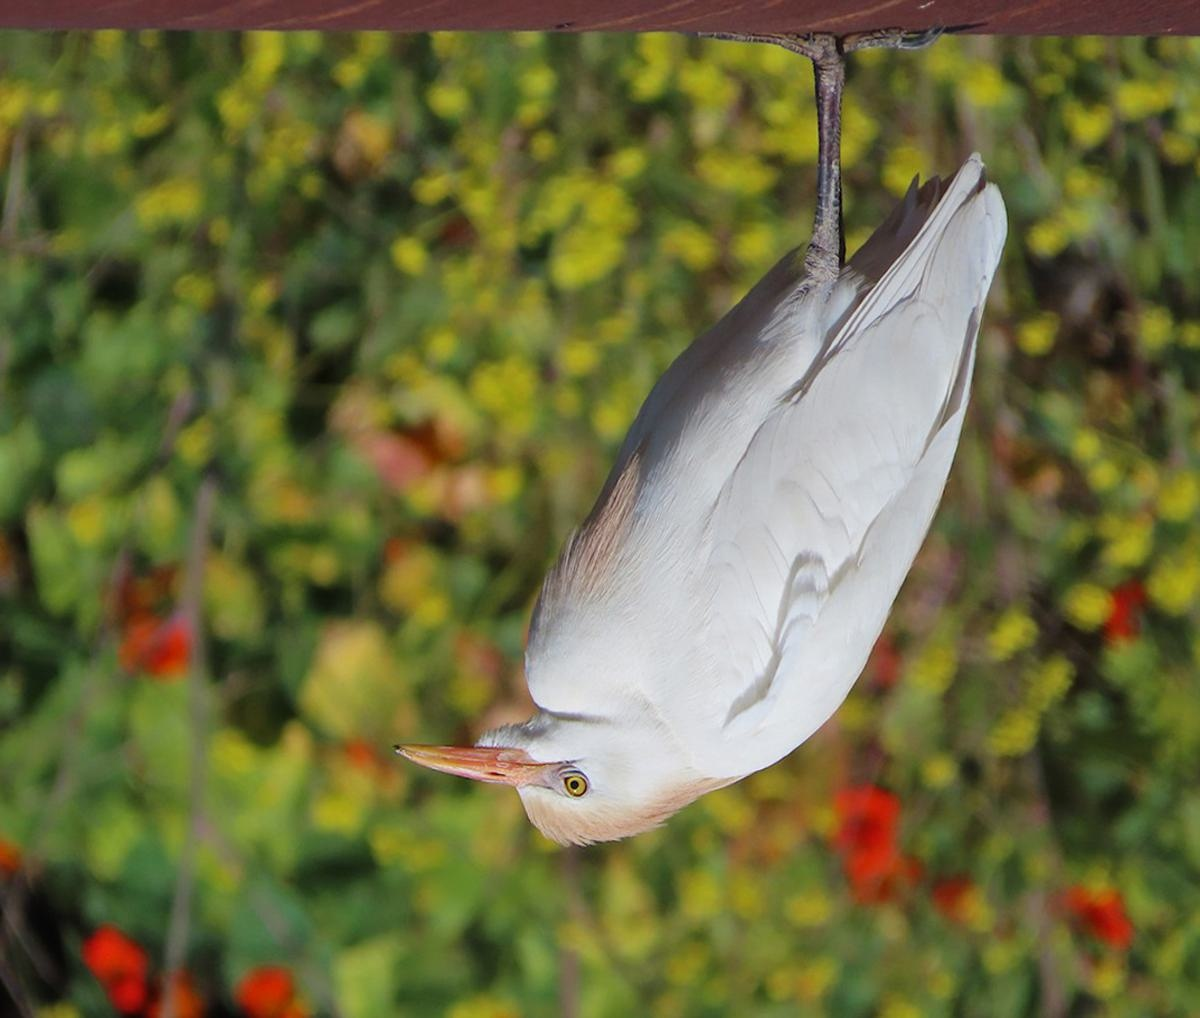egret: (398, 26, 1020, 861)
